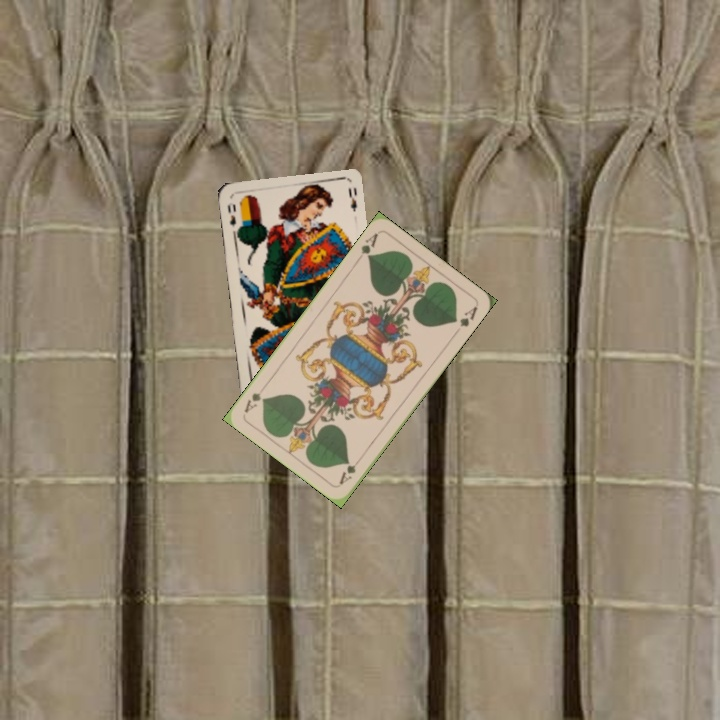EO: (223, 200, 243, 236)
GA: (352, 228, 381, 264), (335, 453, 364, 487)
